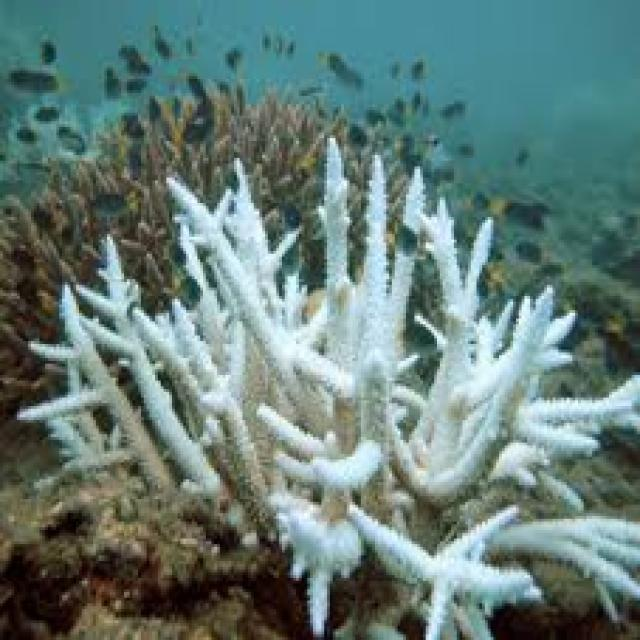Bleached: (21, 139, 638, 638)
